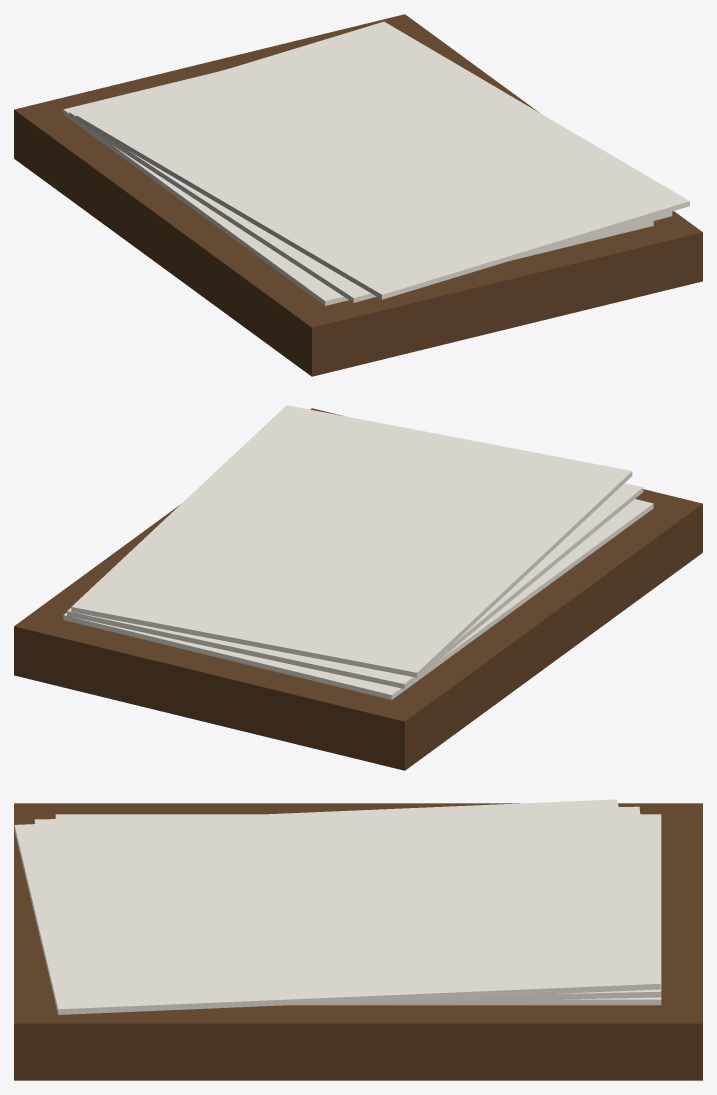
The model's file is documentos.glb.
3 views of the same model, one above another, from view 1: azimuth 30°, elevation 25°; view 2: azimuth 150°, elevation 25°; view 3: azimuth 270°, elevation 25° (orthographic). The views are drawn at different scales.
Parts seen in each view (by area): view 1: documentos; view 2: documentos; view 3: documentos.
Boxes of the visible parts, x1,y1,x2,y2 form: documentos: (14,14,702,376); documentos: (14,405,702,770); documentos: (14,799,702,1080).
Bounding box in the file's own units: 0.254 × 0.0395 × 0.33.
